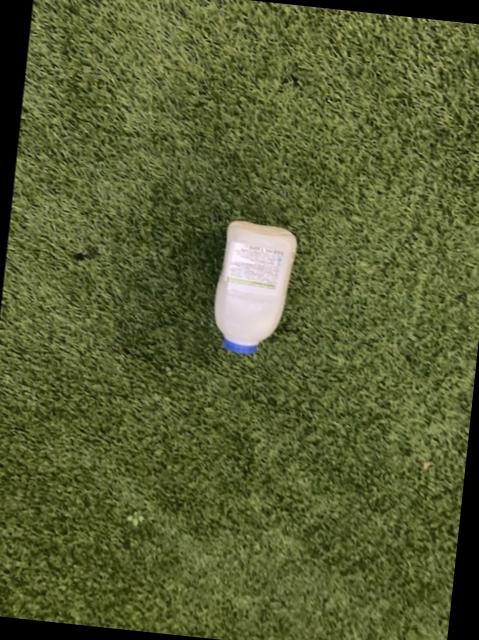plastic: (215, 222, 297, 354)
